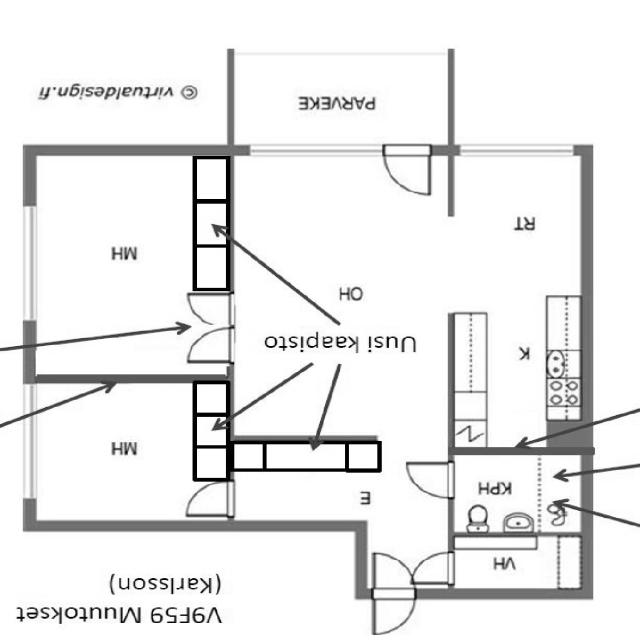door: (368, 546, 418, 634), (380, 144, 436, 200), (402, 459, 461, 502), (181, 288, 240, 331), (182, 320, 238, 365), (182, 479, 235, 517), (409, 549, 458, 586)
window: (18, 200, 46, 325), (16, 396, 47, 503), (244, 141, 382, 163), (454, 140, 577, 163), (15, 379, 43, 421)
zone: (234, 148, 452, 524), (30, 154, 228, 378), (452, 154, 585, 451), (32, 377, 230, 527), (235, 52, 457, 148), (449, 452, 587, 536), (450, 534, 583, 597), (264, 438, 348, 474), (194, 246, 230, 291), (194, 201, 230, 246), (195, 157, 229, 200), (194, 381, 230, 415), (195, 416, 230, 446), (230, 443, 265, 470)
